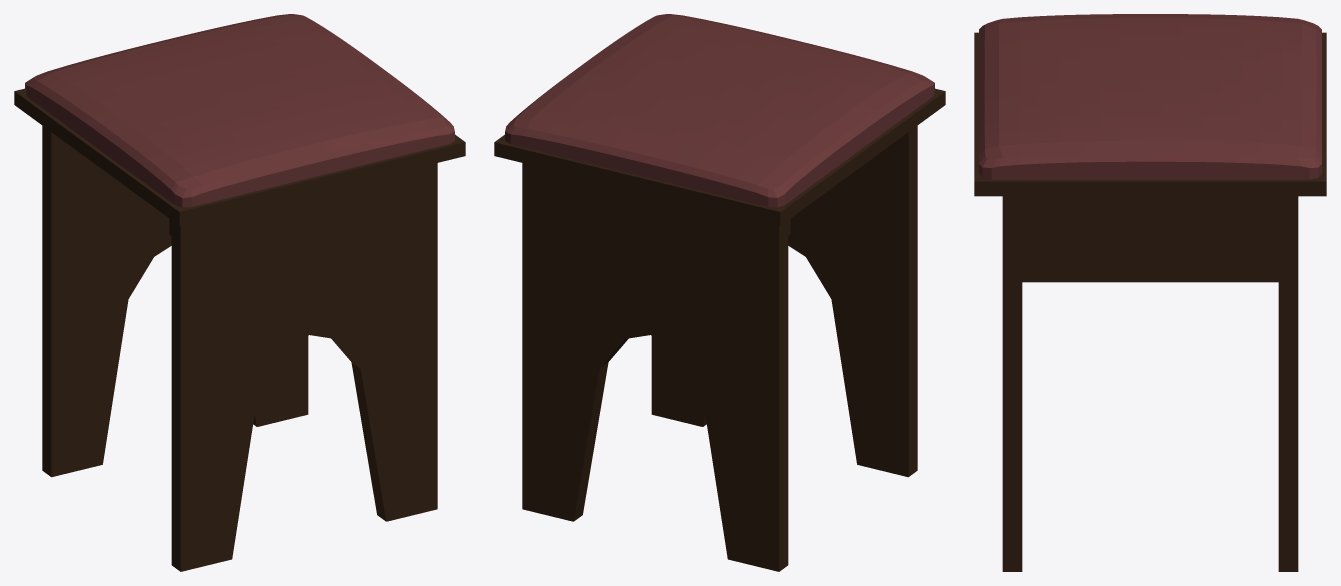
File: taburetka.fbx
The picture shows the model from 3 angles, left to right: view 1: azimuth 30°, elevation 25°; view 2: azimuth 150°, elevation 25°; view 3: azimuth 270°, elevation 25°; orthographic projection. The views are drawn at different scales.
Parts seen in each view (by area): view 1: Cube; view 2: Cube; view 3: Cube.
Boxes of the visible parts, x1,y1,x2,y2 form: Cube: (14, 14, 465, 571); Cube: (494, 14, 945, 571); Cube: (974, 14, 1326, 571).
Size of the model in its own units: 116 by 157 by 116.
